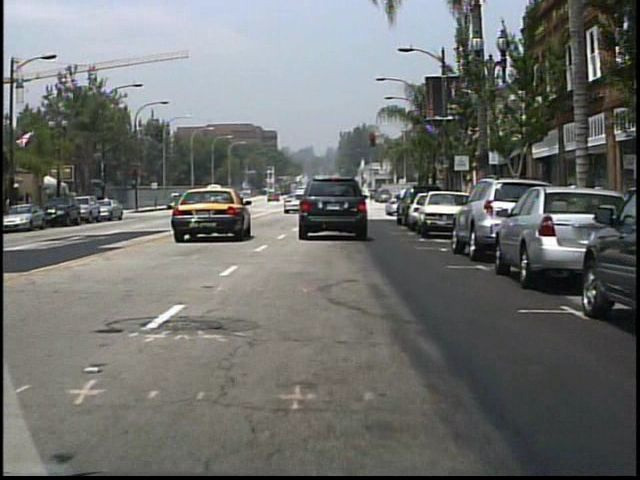person: (336, 189, 350, 213), (219, 189, 233, 212)
